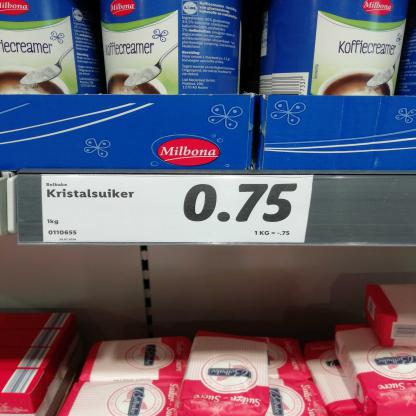prtg: (41, 175, 316, 244)
